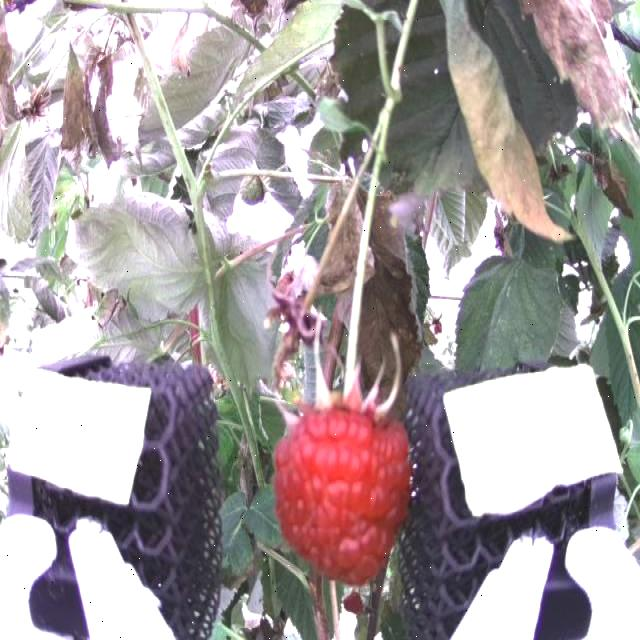Riped berries: (270, 396, 414, 585)
